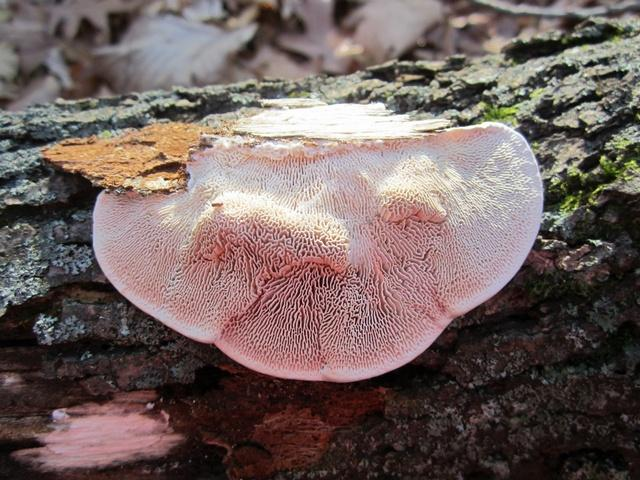Non-edible Mushroom: (89, 98, 545, 384)
